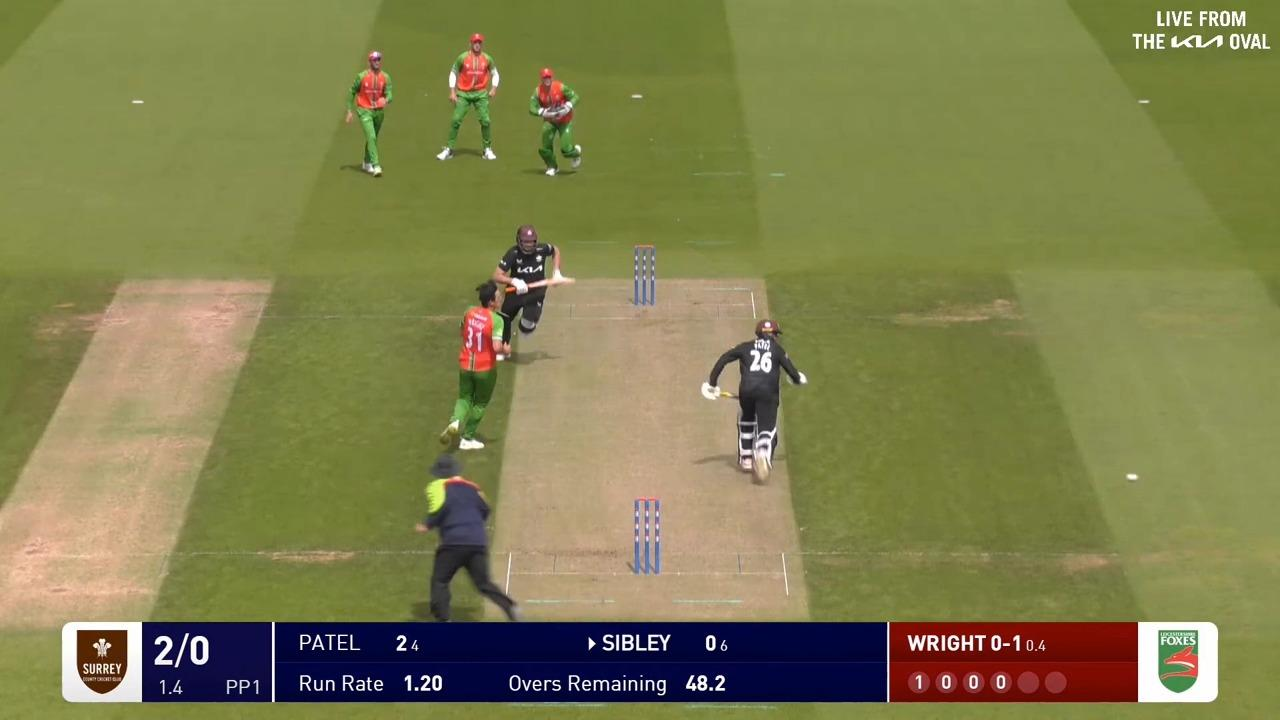sports ball: (1127, 474, 1138, 479)
